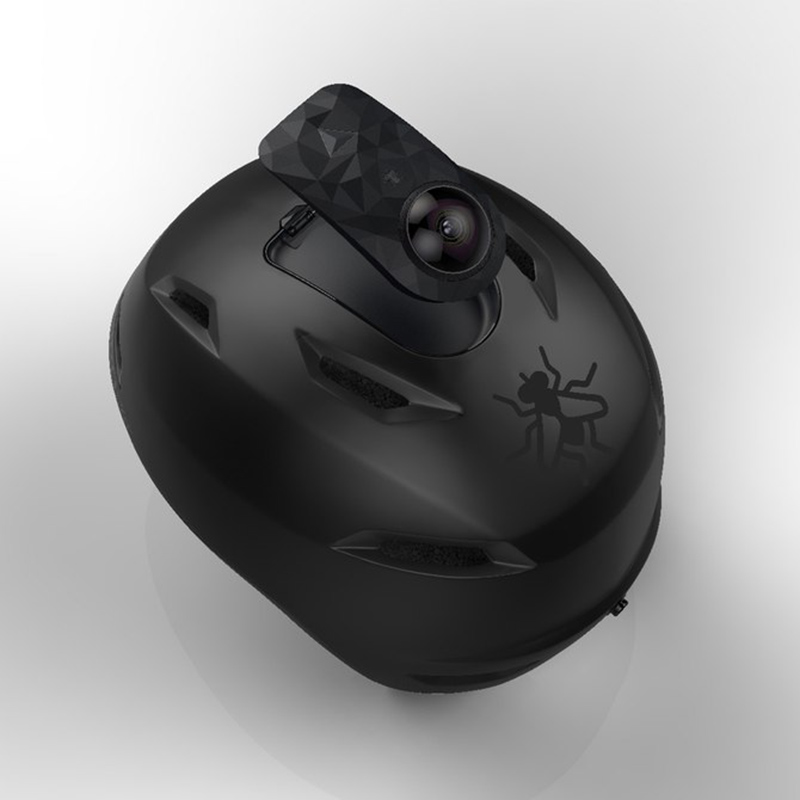Helmet: (90, 74, 728, 737)
